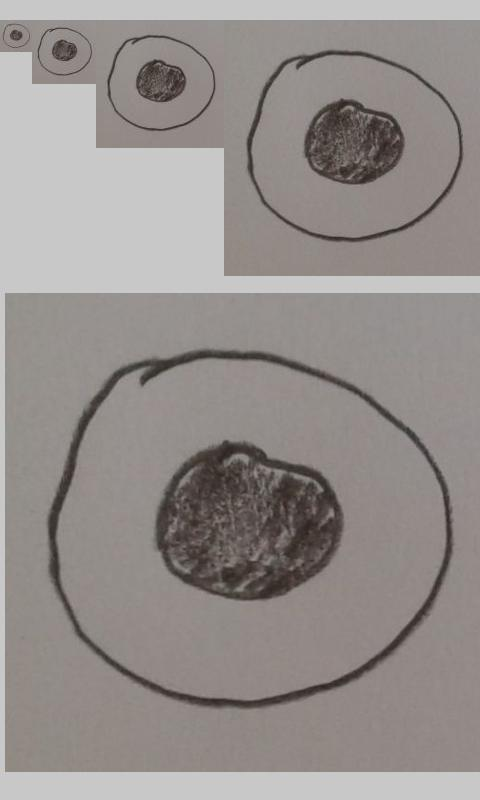radio_button: (45, 347, 455, 712), (245, 46, 466, 245), (106, 34, 217, 132), (37, 27, 93, 77), (2, 23, 31, 49)
